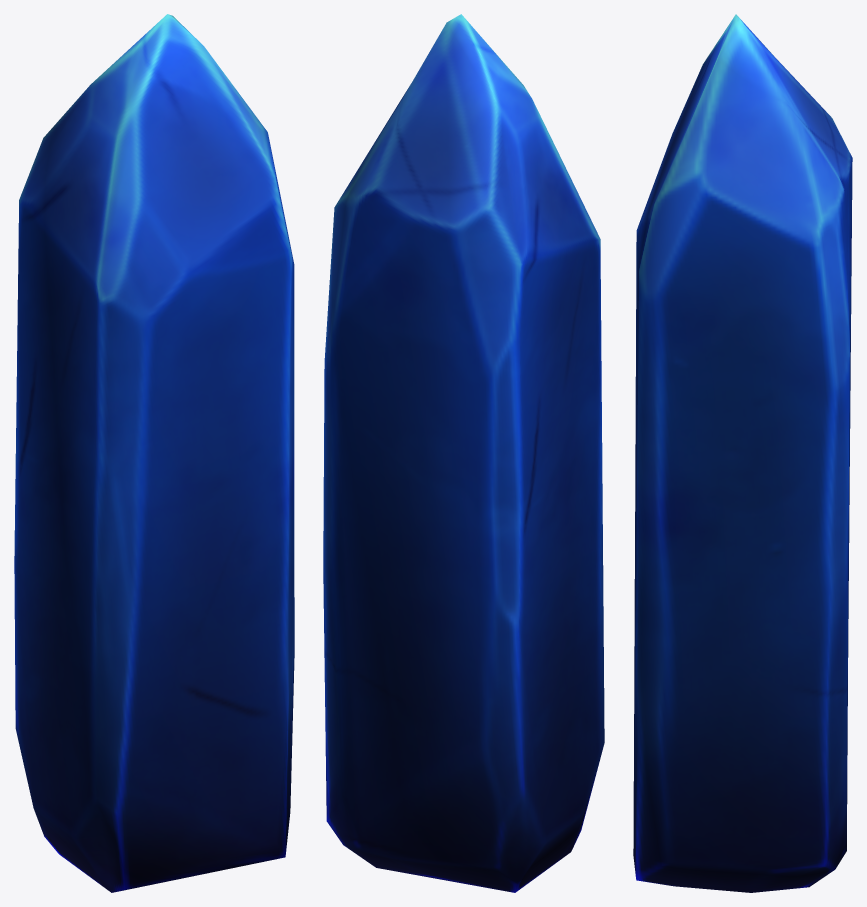
The model's file is SM_Gem_Sapphire_002.fbx.
The picture shows the model from 3 angles, left to right: view 1: azimuth 30°, elevation 25°; view 2: azimuth 150°, elevation 25°; view 3: azimuth 270°, elevation 25°; orthographic projection.
Visible parts, largest first — view 1: SM_Gem_Sapphire_002; view 2: SM_Gem_Sapphire_002; view 3: SM_Gem_Sapphire_002.
Part boxes in pixels (x1,y1,x2,y2): SM_Gem_Sapphire_002: (14,14,294,892); SM_Gem_Sapphire_002: (323,14,604,892); SM_Gem_Sapphire_002: (633,14,852,892).
Size of the model in its own units: 13.44 by 53.57 by 12.53.
